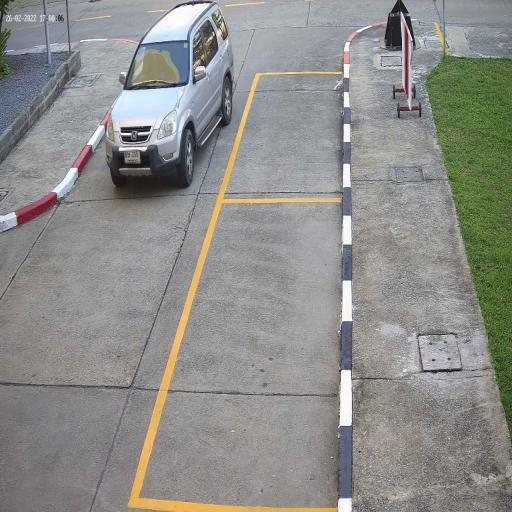car: (104, 0, 236, 189)
